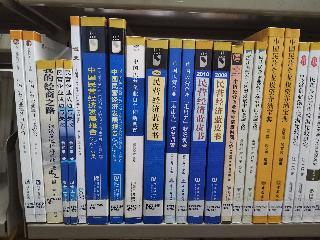book-spine: (263, 27, 302, 225), (249, 26, 287, 224), (79, 17, 109, 224), (280, 43, 311, 223), (290, 41, 320, 224), (140, 39, 169, 224), (202, 41, 231, 225), (240, 41, 269, 225), (21, 29, 47, 222), (121, 36, 147, 224), (218, 45, 245, 225), (10, 29, 35, 223), (186, 40, 212, 225), (230, 41, 255, 224), (36, 60, 64, 223), (105, 18, 126, 224), (69, 14, 87, 225), (176, 38, 194, 223), (164, 40, 182, 224), (301, 65, 320, 222), (55, 57, 72, 226), (64, 59, 79, 225)
